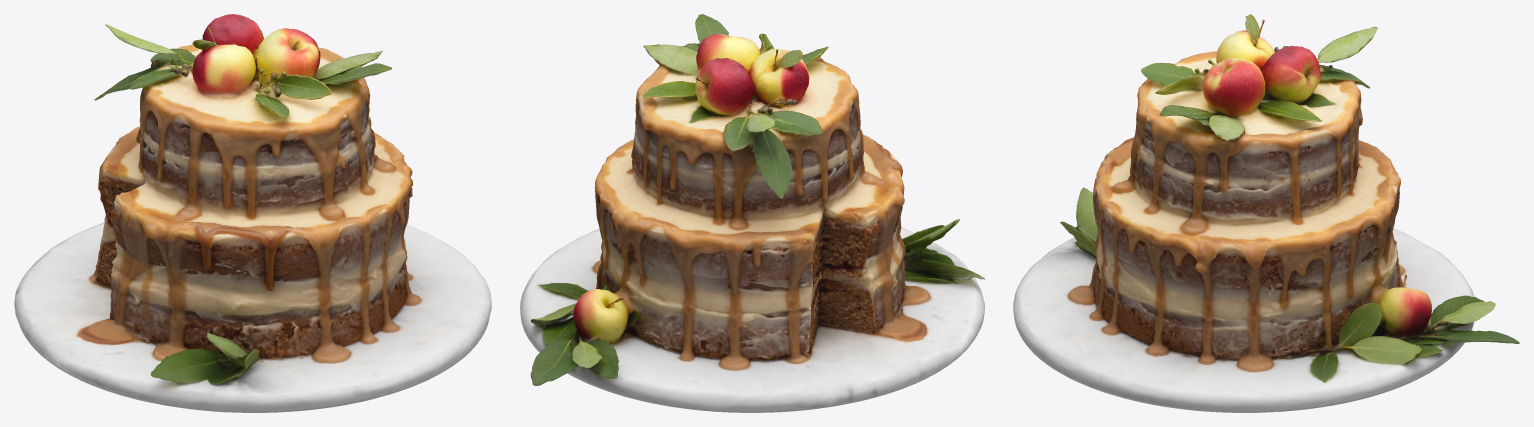
The model's file is AppleSpiceCake_GLB.glb.
3 views of the same model, side by side, from view 1: azimuth 30°, elevation 25°; view 2: azimuth 150°, elevation 25°; view 3: azimuth 270°, elevation 25° (orthographic). The views are drawn at different scales.
Parts seen in each view (by area): view 1: AppleSpiceCake_1, AppleSpiceCake_2; view 2: AppleSpiceCake_1, AppleSpiceCake_2; view 3: AppleSpiceCake_1, AppleSpiceCake_2.
Boxes of the visible parts, x1,y1,x2,y2 form: AppleSpiceCake_1: (14, 14, 491, 410); AppleSpiceCake_2: (21, 330, 483, 412); AppleSpiceCake_1: (520, 14, 984, 411); AppleSpiceCake_2: (521, 319, 976, 412); AppleSpiceCake_1: (1013, 14, 1519, 411); AppleSpiceCake_2: (1019, 325, 1473, 412).
Bounding box in the file's own units: 0.3419 × 0.2299 × 0.375.
Materials: 2 (2 with a texture image).
